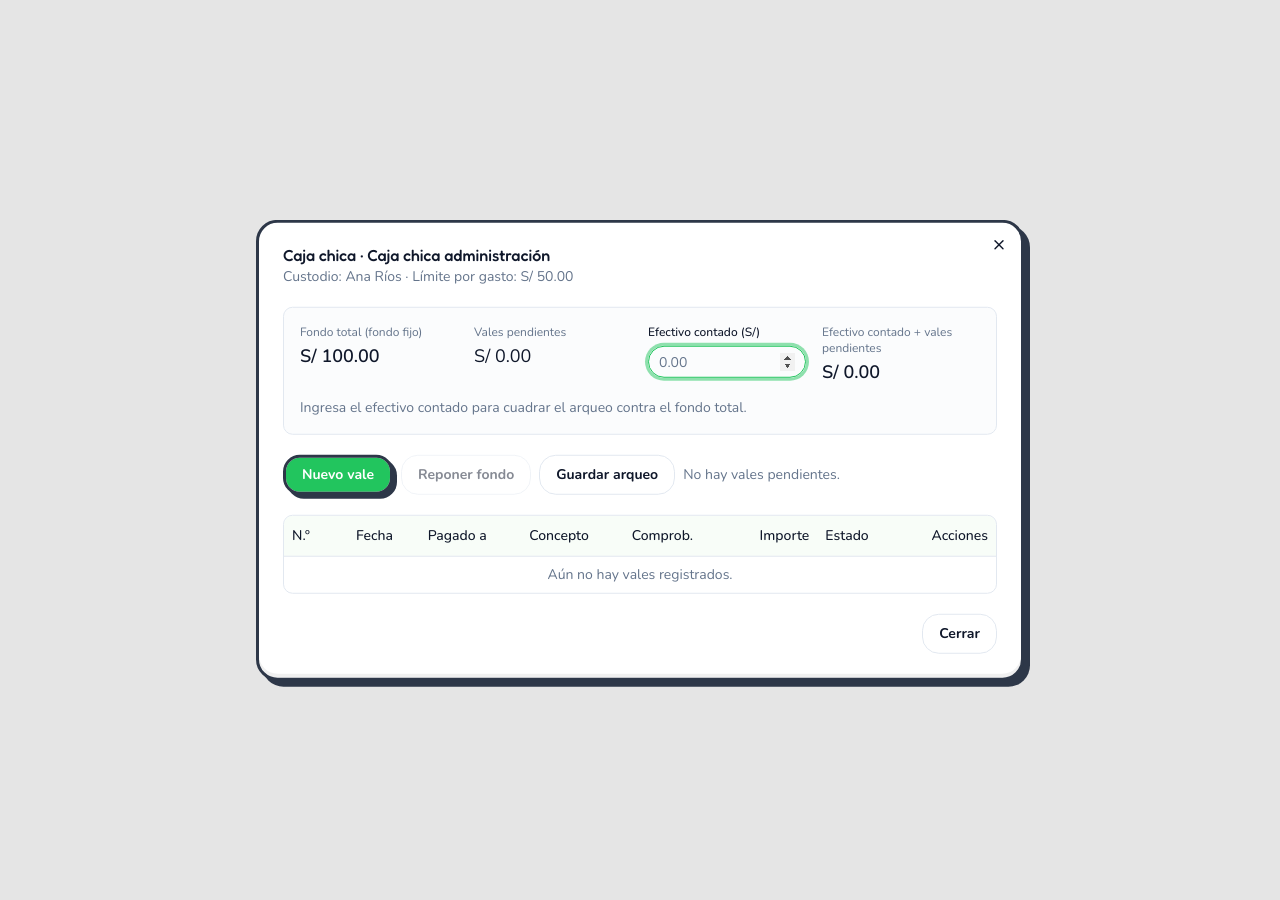
Test: PettyCashPanel › abre el arqueo persistente desde Guardar arqueo
The image size is (1280, 900).
Click the button "Guardar arqueo" at coordinates (607, 475), box x1=539 y1=455 x2=675 y2=495
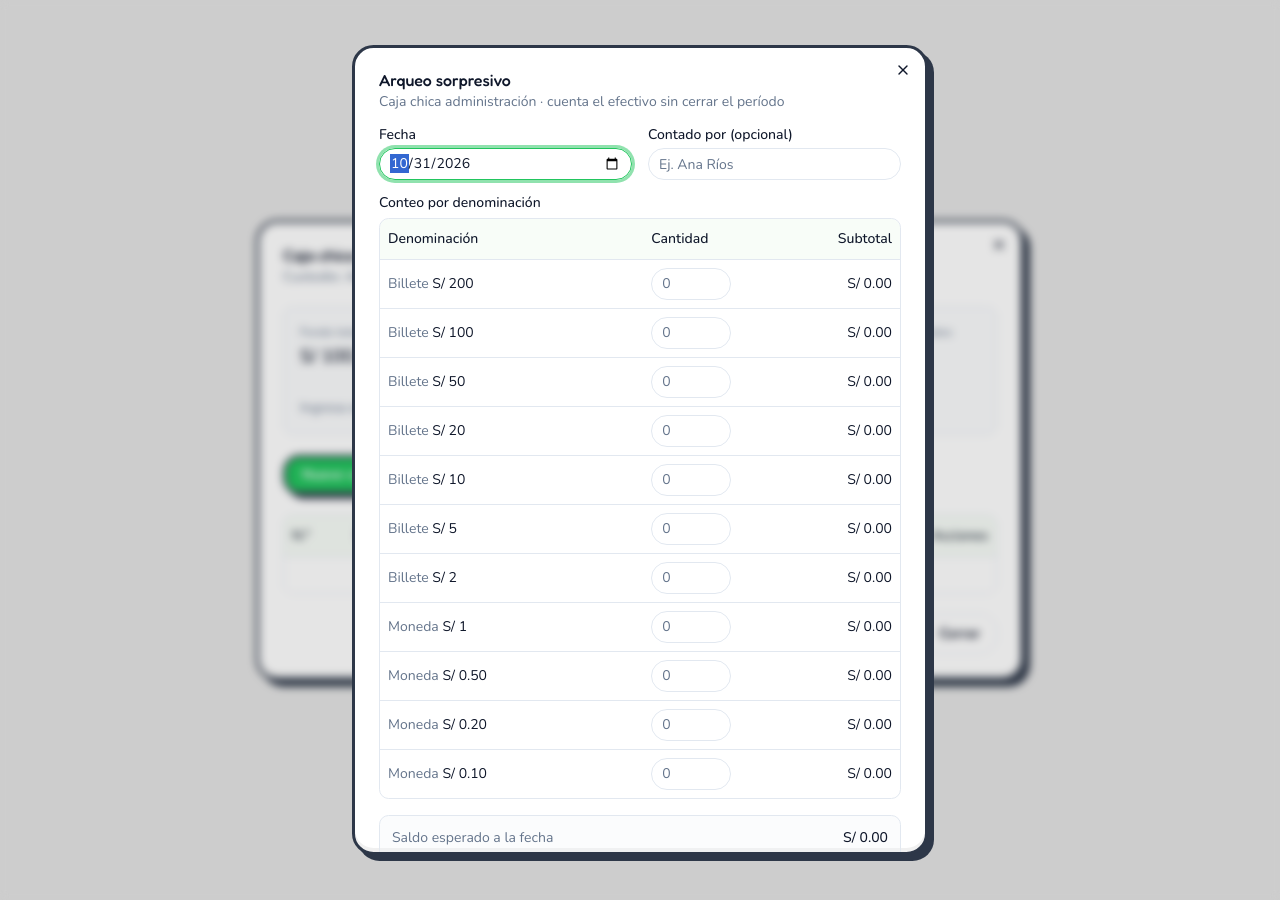
Result: the dialog "Arqueo sorpresivo" is shown at x1=352 y1=45 x2=928 y2=855
